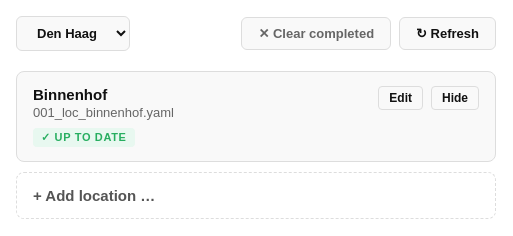
it: 'Clear completed' button appears when up_to_date entries exist and removes them
Click the button "✕ Clear completed". click: (316,34)
box: [241,17,391,50]
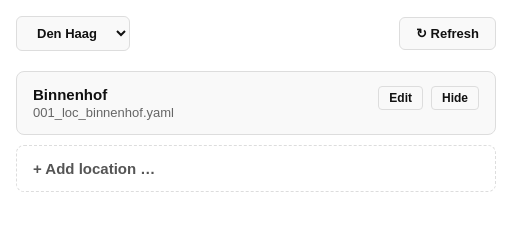
Now the text "Up to date" is gone
Now the button "Clear completed" is gone
